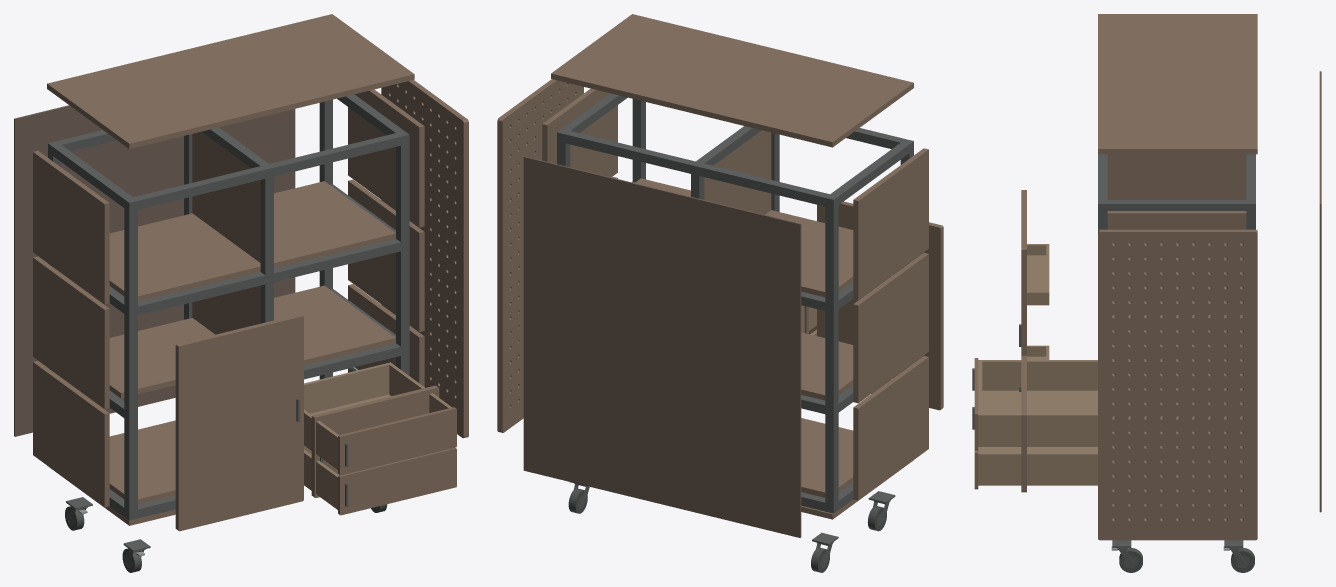
File: exploded.glb
3 renders of one model, left to right at view 1: azimuth 30°, elevation 25°; view 2: azimuth 150°, elevation 25°; view 3: azimuth 270°, elevation 25°, orthographic. The views are drawn at different scales.
Parts seen in each view (by area): view 1: B04-top, B60-left-door, B40-back, B50-pegboard, B03-shelf, B02-shelf, B22-left-side, B21-left-side, B20-left-side, B32-right-side, B12-partition, D1-face (+24 smaller); view 2: B40-back, B04-top, B50-pegboard, B22-left-side, B21-left-side, B20-left-side, A-post-0-1, B60-left-door, B03-shelf, B32-right-side, B12-partition, B01-shelf (+9 smaller); view 3: B50-pegboard, B04-top, B12-partition, D1-right, D0-right, D1-left, D1-bottom, B32-right-side, A-depth-3-2, B40-back, D0-bottom, B60-left-door (+5 smaller).
Boxes of the visible parts, x1,y1,x2,y2 form: B04-top: (47,14,414,148); B60-left-door: (175,314,303,531); B40-back: (14,105,295,436); B50-pegboard: (381,80,468,438); B03-shelf: (109,181,395,301); B02-shelf: (109,285,395,398); B22-left-side: (33,150,109,304); B21-left-side: (33,256,109,408); B20-left-side: (33,361,109,507); B32-right-side: (348,89,424,227); B12-partition: (192,132,260,262); D1-face: (338,407,456,475); B40-back: (523,156,801,537); B04-top: (551,14,913,147); B50-pegboard: (497,79,583,432); B22-left-side: (853,148,928,299); B21-left-side: (853,252,928,403); B20-left-side: (853,356,928,500); A-post-0-1: (825,194,838,513); B60-left-door: (817,201,943,410); B03-shelf: (635,178,853,297); B32-right-side: (542,88,617,177); B12-partition: (704,130,771,214); B01-shelf: (801,418,853,497); B50-pegboard: (1098,229,1257,540); B04-top: (1098,14,1257,154); B12-partition: (1107,154,1246,199); D1-right: (978,413,1097,444); D0-right: (978,452,1097,482); D1-left: (978,360,1097,390); D1-bottom: (978,390,1097,446); B32-right-side: (1107,211,1246,301); A-depth-3-2: (1107,200,1246,210); B40-back: (1319,71,1321,512); D0-bottom: (978,447,1097,485); B60-left-door: (1021,190,1026,355).
Size of the model in its own units: 1.26 by 1.49 by 1.09.
